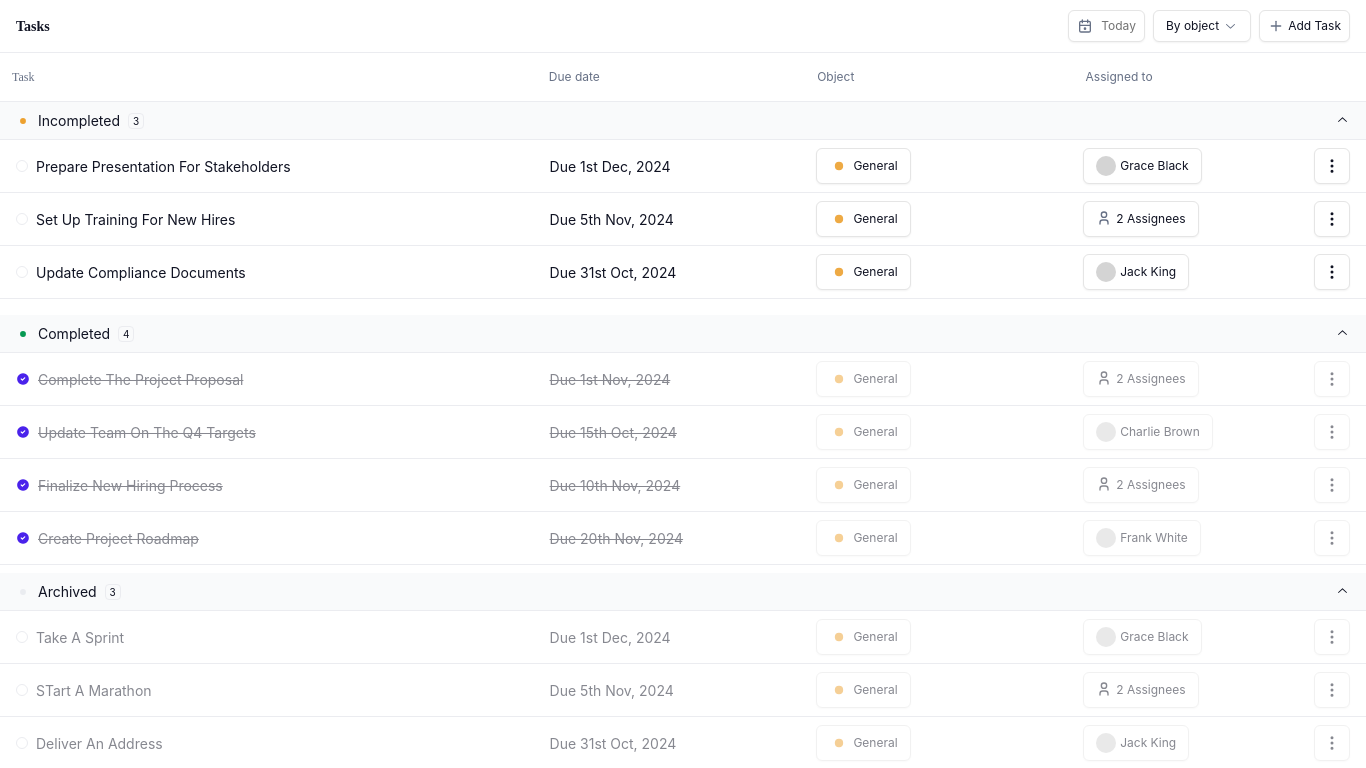
Test: MemberProfileTasksUI › toggles the viewing of incompleted tasks
Expected: the element with test id "incompleted-task-component" is shown, x1=0 y1=140 x2=1365 y2=315
Click the element with test id "view-incompleted": (683, 121) x1=0 y1=102 x2=1365 y2=140
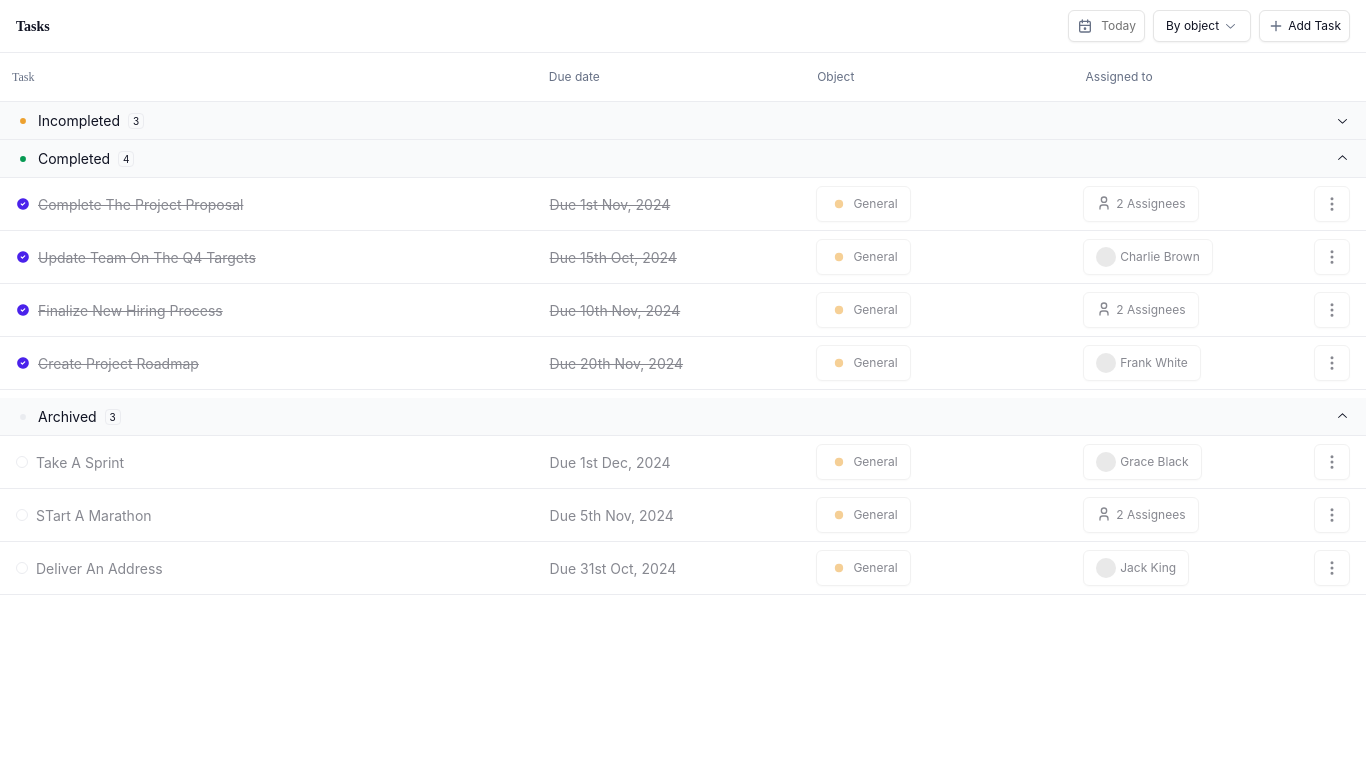
Expected: the element with test id "incompleted-task-component" is gone
